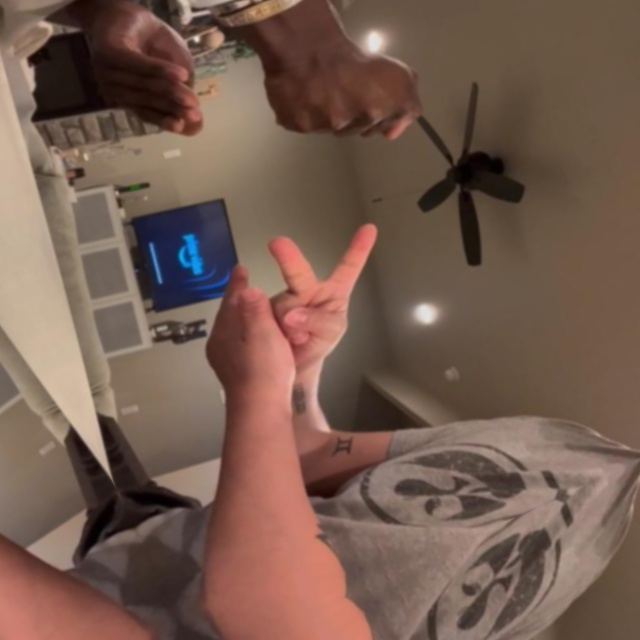Rock: (240, 6, 449, 198)
Scissors: (230, 189, 432, 398)
